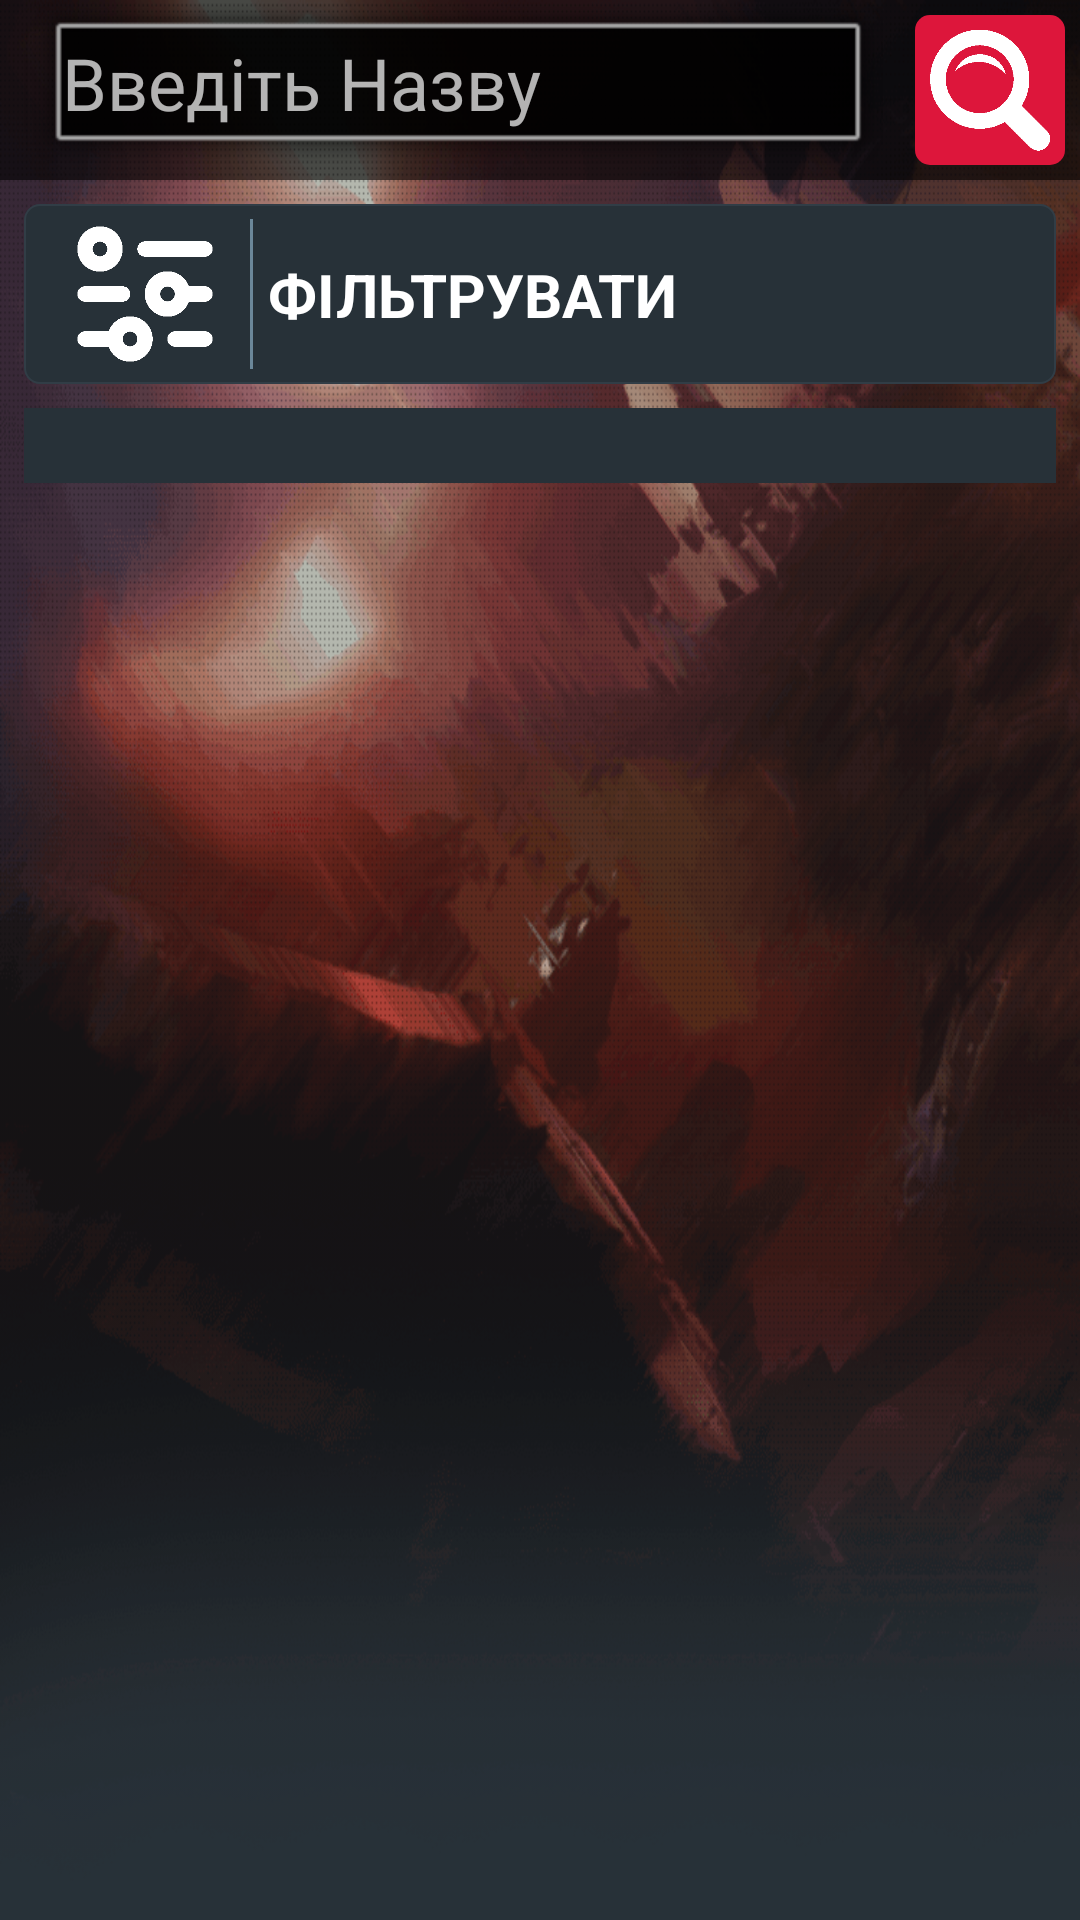

Named icons in this screenshot (1080x1920) and their centers, point (x, y):
lupa: point (990, 90)
